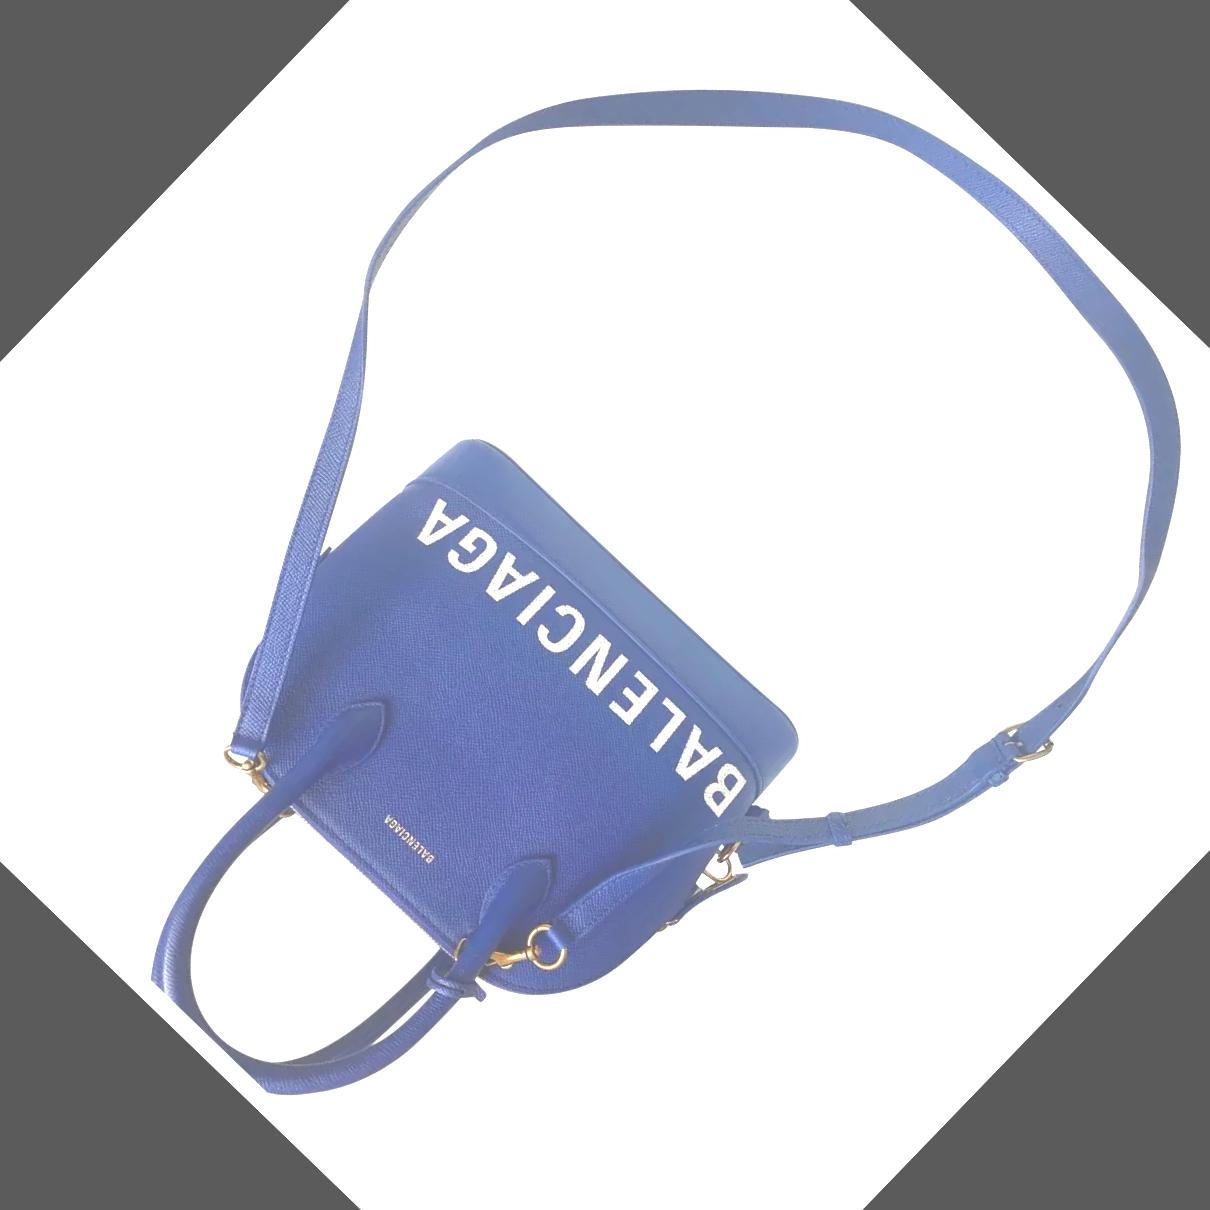BALENCIAGA: (408, 485, 753, 822), (382, 812, 435, 864)
